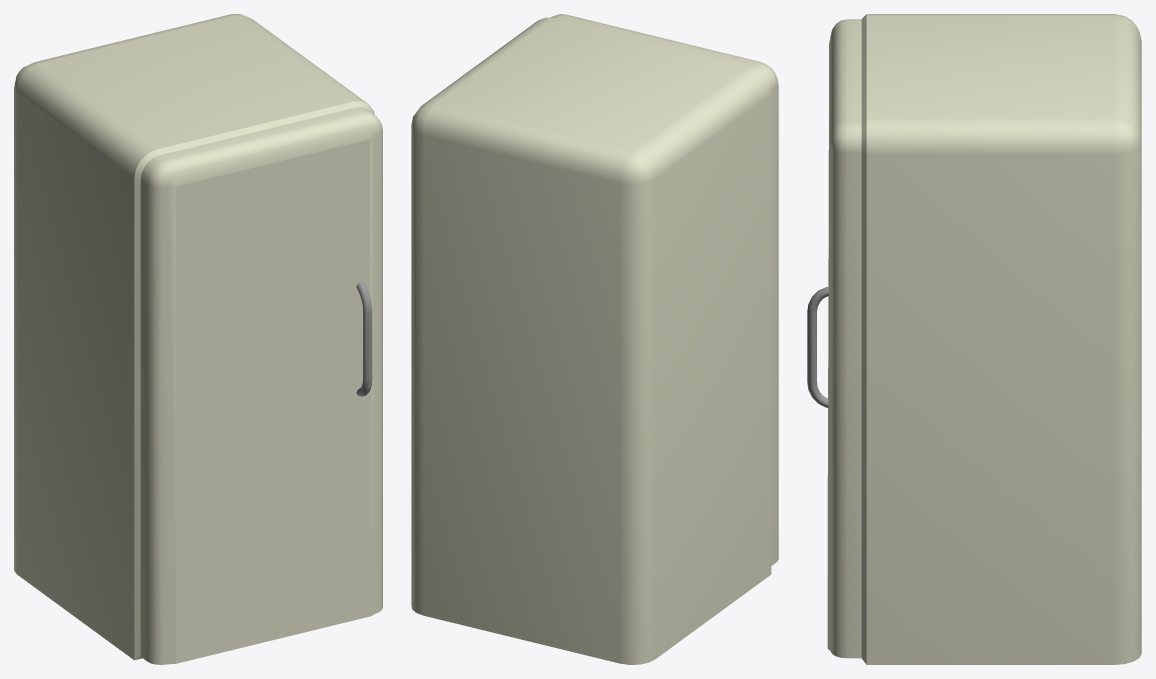
The model's file is Koelkast2.fbx.
3 views of the same model, side by side, from view 1: azimuth 30°, elevation 25°; view 2: azimuth 150°, elevation 25°; view 3: azimuth 270°, elevation 25° (orthographic). The views are drawn at different scales.
Parts seen in each view (by area): view 1: Cube.001, Cube.003, Cube.011; view 2: Cube.003, Cube.001; view 3: Cube.003, Cube.001, Cube.011.
Part boxes in pixels (x1,y1,x2,y2): Cube.001: [140, 107, 382, 664]; Cube.003: [14, 14, 374, 660]; Cube.011: [356, 282, 372, 396]; Cube.003: [411, 17, 771, 664]; Cube.001: [551, 14, 778, 565]; Cube.003: [861, 14, 1141, 664]; Cube.001: [827, 19, 861, 658]; Cube.011: [807, 287, 828, 407].
Size of the model in its own units: 200 by 400 by 226.
